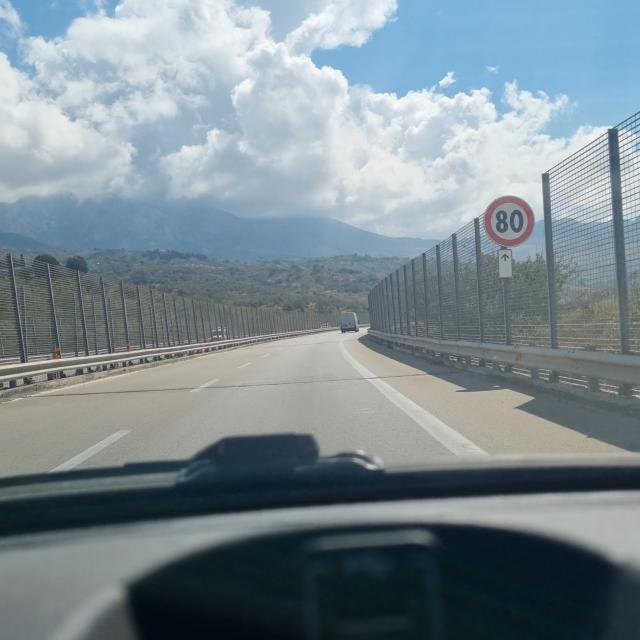forb_speed_over_80: (483, 195, 534, 249)
